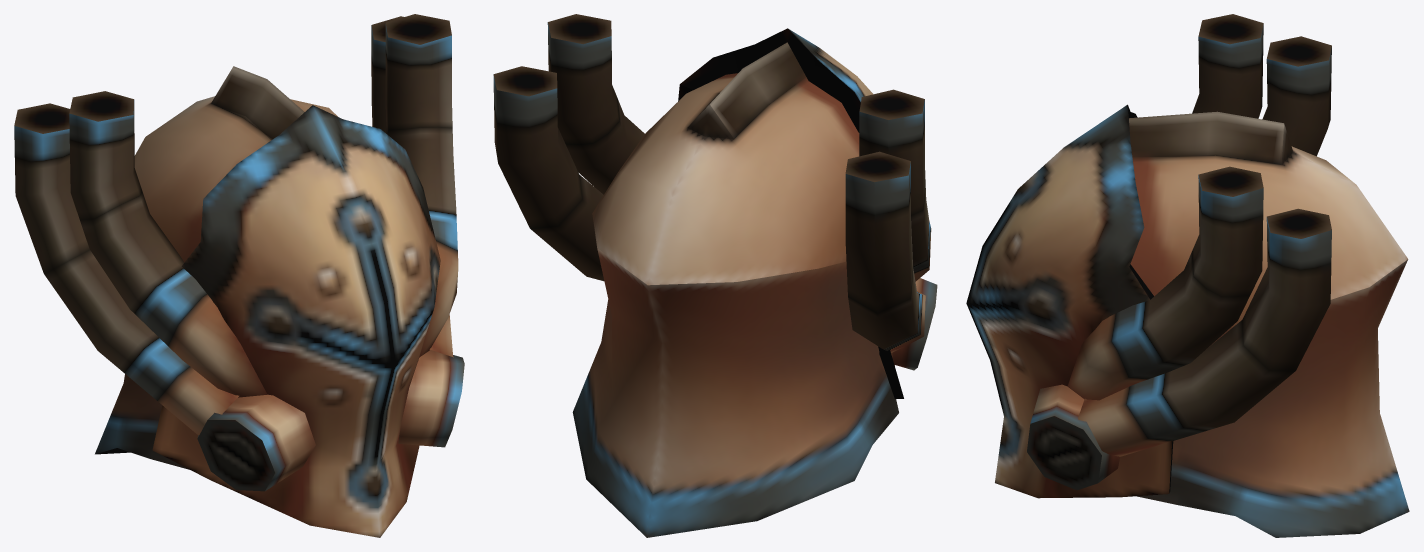
Rendered from hum_engineer_07_cb55dca6.glb.
The picture shows the model from 3 angles, left to right: view 1: azimuth 30°, elevation 25°; view 2: azimuth 150°, elevation 25°; view 3: azimuth 270°, elevation 25°; orthographic projection.
Bounding box in the file's own units: 0.4467 × 0.4181 × 0.4125.
Materials: 1 (1 with a texture image).
